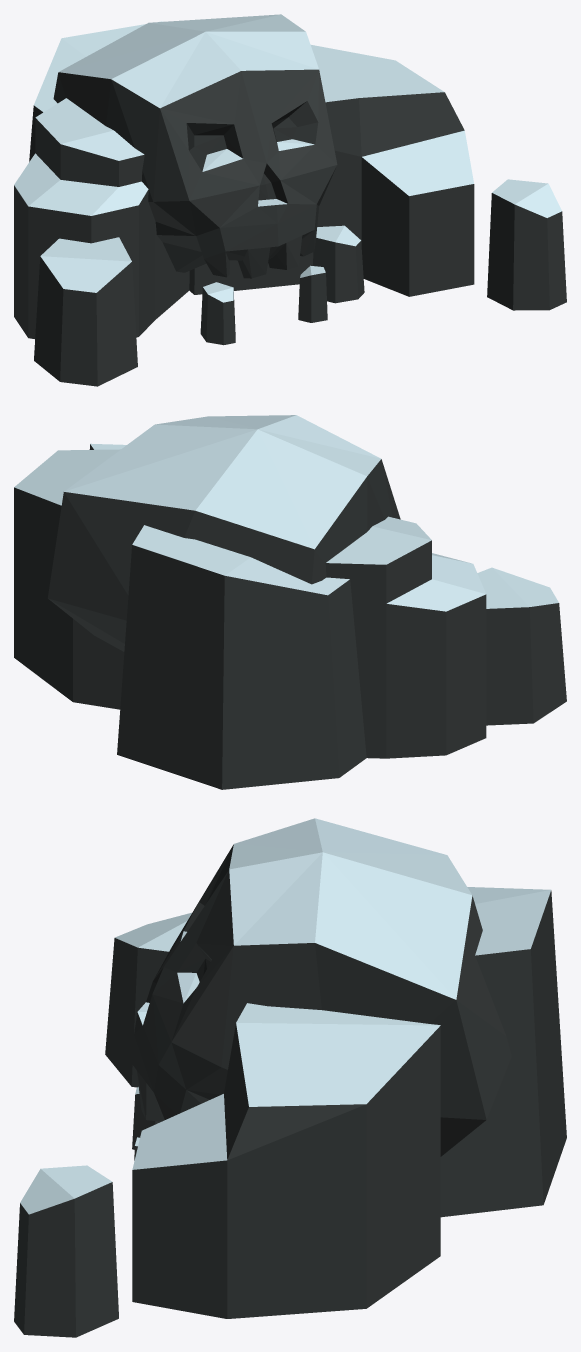
Rendered from SM_Env_Pirate_SkullRock_01_Snow.fbx.
3 views of the same model, one above another, from view 1: azimuth 30°, elevation 25°; view 2: azimuth 150°, elevation 25°; view 3: azimuth 270°, elevation 25° (orthographic). The views are drawn at different scales.
Visible parts, largest first — view 1: SM_Env_Pirate_SkullRock_01_Snow; view 2: SM_Env_Pirate_SkullRock_01_Snow; view 3: SM_Env_Pirate_SkullRock_01_Snow.
Boxes of the visible parts, left/top/right/bottom form: SM_Env_Pirate_SkullRock_01_Snow: left=14, top=14, right=566, bottom=386; SM_Env_Pirate_SkullRock_01_Snow: left=14, top=415, right=566, bottom=789; SM_Env_Pirate_SkullRock_01_Snow: left=14, top=818, right=566, bottom=1337.
Bounding box in the file's own units: 223 × 113 × 175.
1 material, 1 textured.
